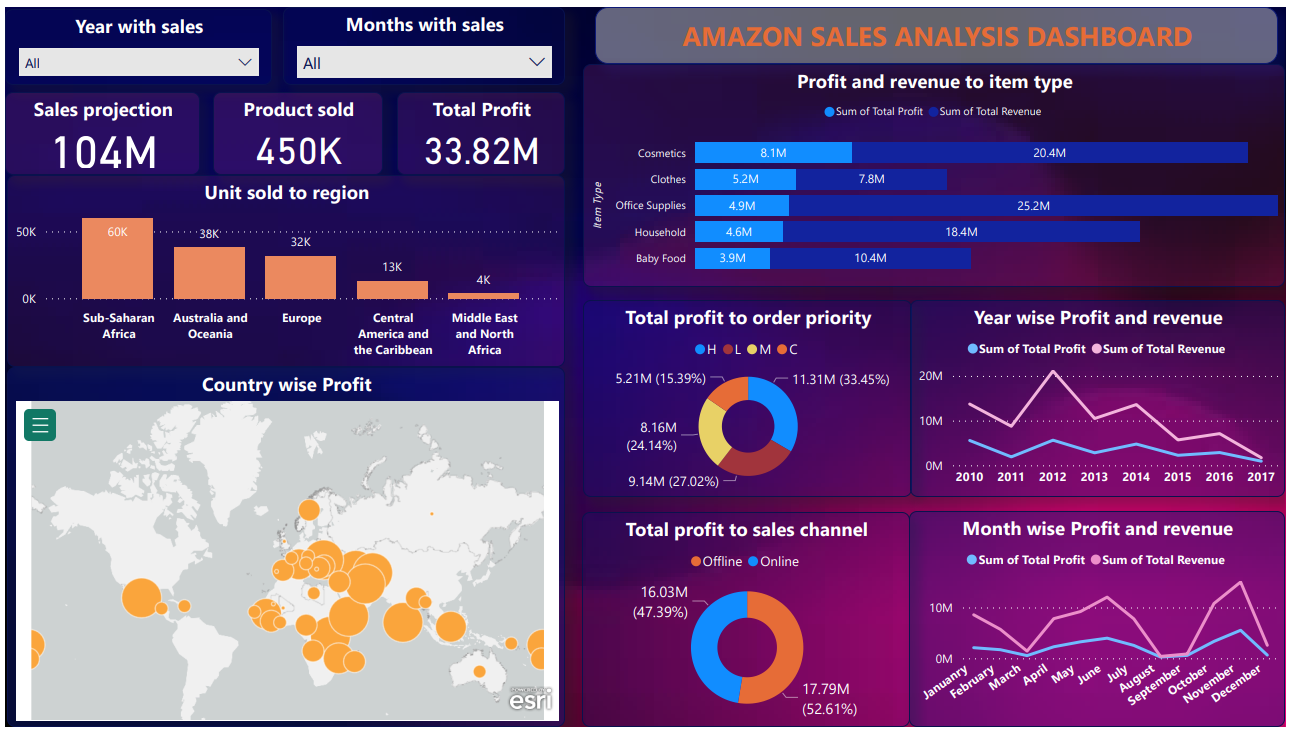

The dashboard page shown, as its layout file describes it:
{"tool":"powerbi","page":{"name":"Report on amazon sales","canvas":[1280,720],"ordinal":0},"visuals":[{"type":"slicer","title":"Year with sales","fields":{"Values":["Sheet1.sales_year"]},"box":[0,1.7,266.7,76.7],"z":0},{"type":"slicer","title":"Months with sales","fields":{"Values":["Sheet1.months"]},"box":[278.3,0,281.7,78.3],"z":1000},{"type":"card","title":" Sales projection","fields":{"Values":["Sum(Sheet1.Total Revenue)"]},"box":[0,85,195,83.3],"z":2000},{"type":"card","title":" Product sold","fields":{"Values":["Sum(Sheet1.Units Sold)"]},"box":[208.3,85,170,83.3],"z":3000},{"type":"textbox","box":[590,0,683.3,56.7],"z":4000},{"type":"donutChart","title":"Total profit to sales channel","fields":{"Category":["Sheet1.Sales Channel"],"Y":["Sum(Sheet1.Total Profit)"]},"box":[576.7,505,328.3,215],"z":5000},{"type":"card","title":"Total Profit ","fields":{"Values":["Sum(Sheet1.Total Profit)"]},"box":[391.7,85,168.3,83.3],"z":6000},{"type":"pieChart","title":"Total profit to order priority","fields":{"Y":["Sum(Sheet1.Total Profit)"],"Category":["Sheet1.Order Priority"]},"box":[578.3,293.3,328.3,196.7],"z":7000},{"type":"barChart","title":"Profit and revenue to item type","fields":{"Y":["Sum(Sheet1.Total Profit)","Sum(Sheet1.Total Revenue)"],"Category":["Sheet1.Item Type"]},"box":[578.3,56.7,701.7,223.3],"z":8000},{"type":"lineChart","title":"Year wise Profit and revenue","fields":{"Y":["Sum(Sheet1.Total Profit)","Sum(Sheet1.Total Revenue)"],"Category":["Sheet1.sales_year"]},"box":[905,293.3,375,196.7],"z":8001},{"type":"lineChart","title":"Month wise Profit and revenue","fields":{"Y":["Sum(Sheet1.Total Profit)","Sum(Sheet1.Total Revenue)"],"Category":["Sheet1.months"]},"box":[905,505,375,215],"z":8002},{"type":"clusteredColumnChart","title":"Unit sold to region","fields":{"Y":["Sum(Sheet1.Units Sold)"],"Category":["Sheet1.Region"]},"box":[1.7,168.3,558.3,191.7],"z":8003},{"type":"esriVisual","title":"Country wise Profit ","fields":{"Size":["Sum(Sheet1.Total Profit)"],"Location":["Sheet1.Country"]},"box":[1.7,360,558.3,360],"z":8004}]}

Visuals, with their boxes in screenshot pixels (x1, y1, x2, y2), scaled from the page's 1280x720 canvas onto the 1290x733 screenshot:
"Year with sales" slicer: l=0, t=2, r=269, b=80
"Months with sales" slicer: l=280, t=0, r=564, b=80
" Sales projection" card: l=0, t=87, r=197, b=171
" Product sold" card: l=210, t=87, r=381, b=171
textbox: l=595, t=0, r=1283, b=58
"Total profit to sales channel" donutChart: l=581, t=514, r=912, b=732
"Total Profit " card: l=395, t=87, r=564, b=171
"Total profit to order priority" pieChart: l=583, t=299, r=914, b=499
"Profit and revenue to item type" barChart: l=583, t=58, r=1289, b=285
"Year wise Profit and revenue" lineChart: l=912, t=299, r=1289, b=499
"Month wise Profit and revenue" lineChart: l=912, t=514, r=1289, b=732
"Unit sold to region" clusteredColumnChart: l=2, t=171, r=564, b=366
"Country wise Profit " esriVisual: l=2, t=366, r=564, b=732
